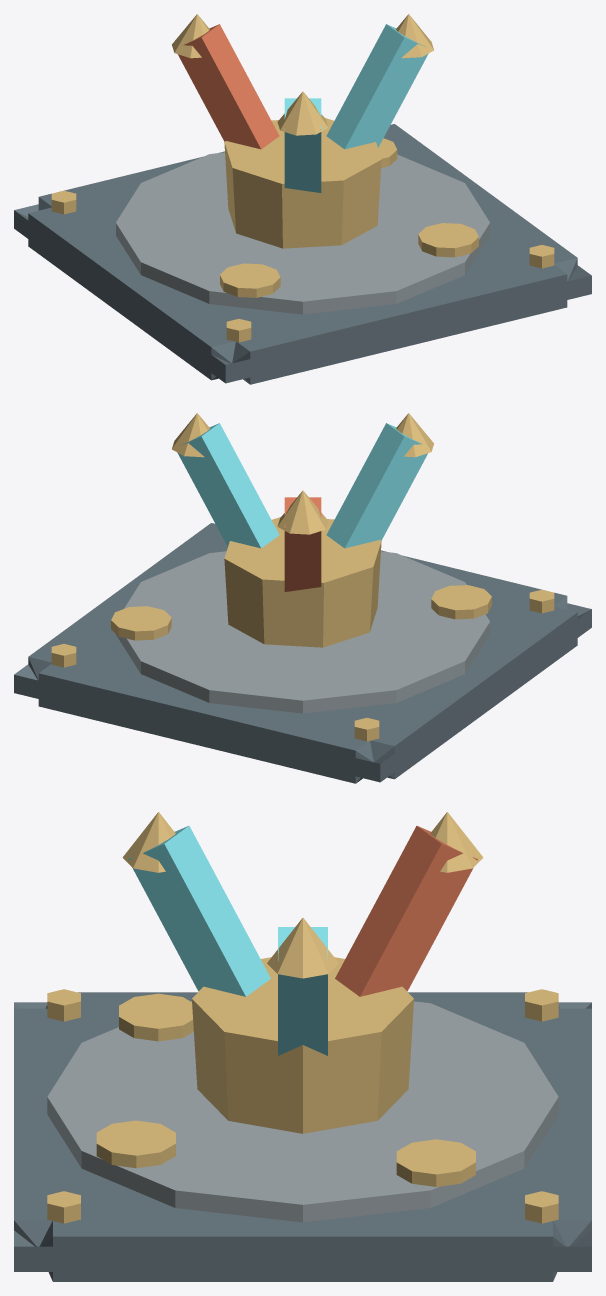
The model's file is TrapClumsyJinx.fbx.
The picture shows the model from 3 angles, top to bottom: view 1: azimuth 30°, elevation 25°; view 2: azimuth 150°, elevation 25°; view 3: azimuth 270°, elevation 25°; orthographic projection. The views are drawn at different scales.
Visible parts, largest first — view 1: TrapClumsyJinx.002; view 2: TrapClumsyJinx.002; view 3: TrapClumsyJinx.002.
Boxes of the visible parts, <box> form: TrapClumsyJinx.002: <box>14,14,591,384</box>; TrapClumsyJinx.002: <box>14,413,591,783</box>; TrapClumsyJinx.002: <box>14,812,591,1281</box>.
Bounding box in the file's own units: 1.04 × 0.62 × 1.04.
